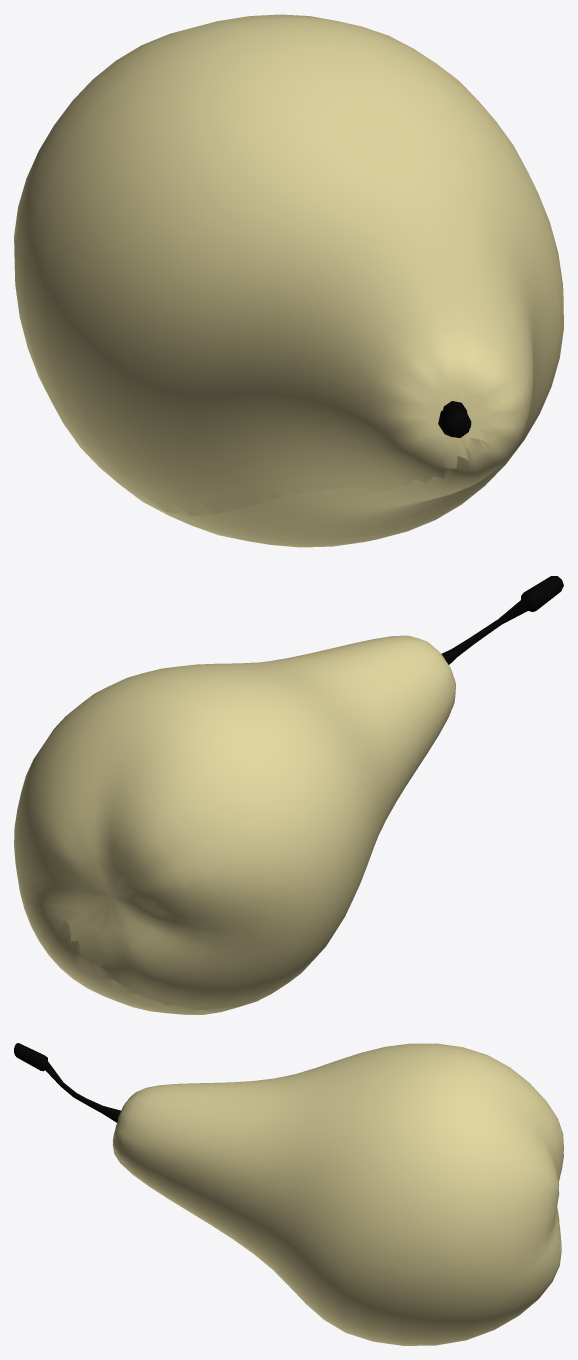
The model's file is pear.fbx.
3 views of the same model, one above another, from view 1: azimuth 30°, elevation 25°; view 2: azimuth 150°, elevation 25°; view 3: azimuth 270°, elevation 25° (orthographic). The views are drawn at different scales.
Visible parts, largest first — view 1: object_1, object_3; view 2: object_1, object_3; view 3: object_1, object_3.
Part boxes in pixels (x1,y1,x2,y2): object_1: [14, 14, 563, 547]; object_3: [438, 401, 471, 437]; object_1: [14, 635, 455, 1014]; object_3: [441, 576, 563, 664]; object_1: [112, 1043, 563, 1345]; object_3: [14, 1043, 120, 1122].
Size of the model in its own units: 2.54 by 2.52 by 4.68.
